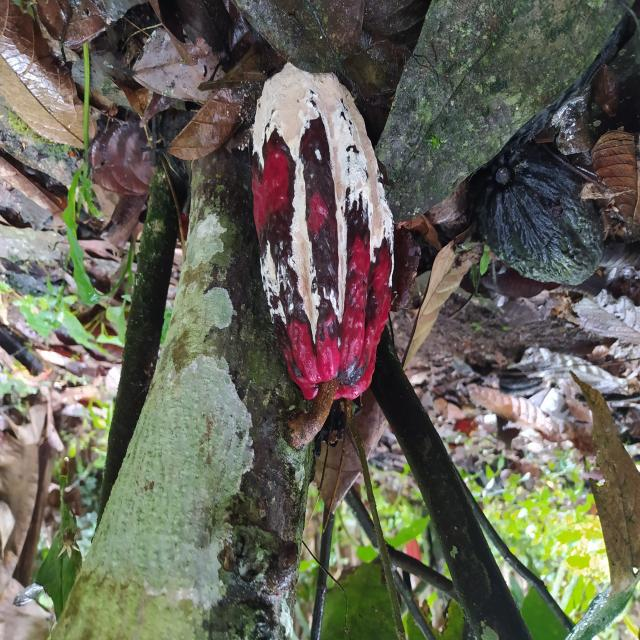Monilia: (253, 63, 396, 400)
